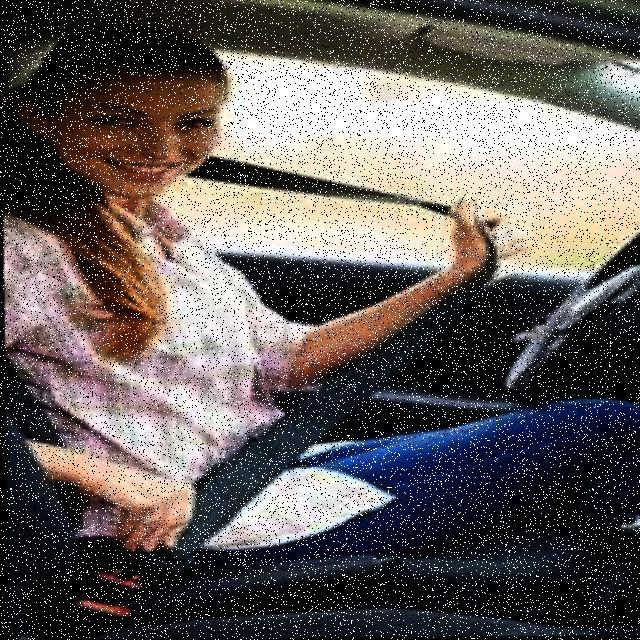seatbelt: (6, 178, 374, 610)
